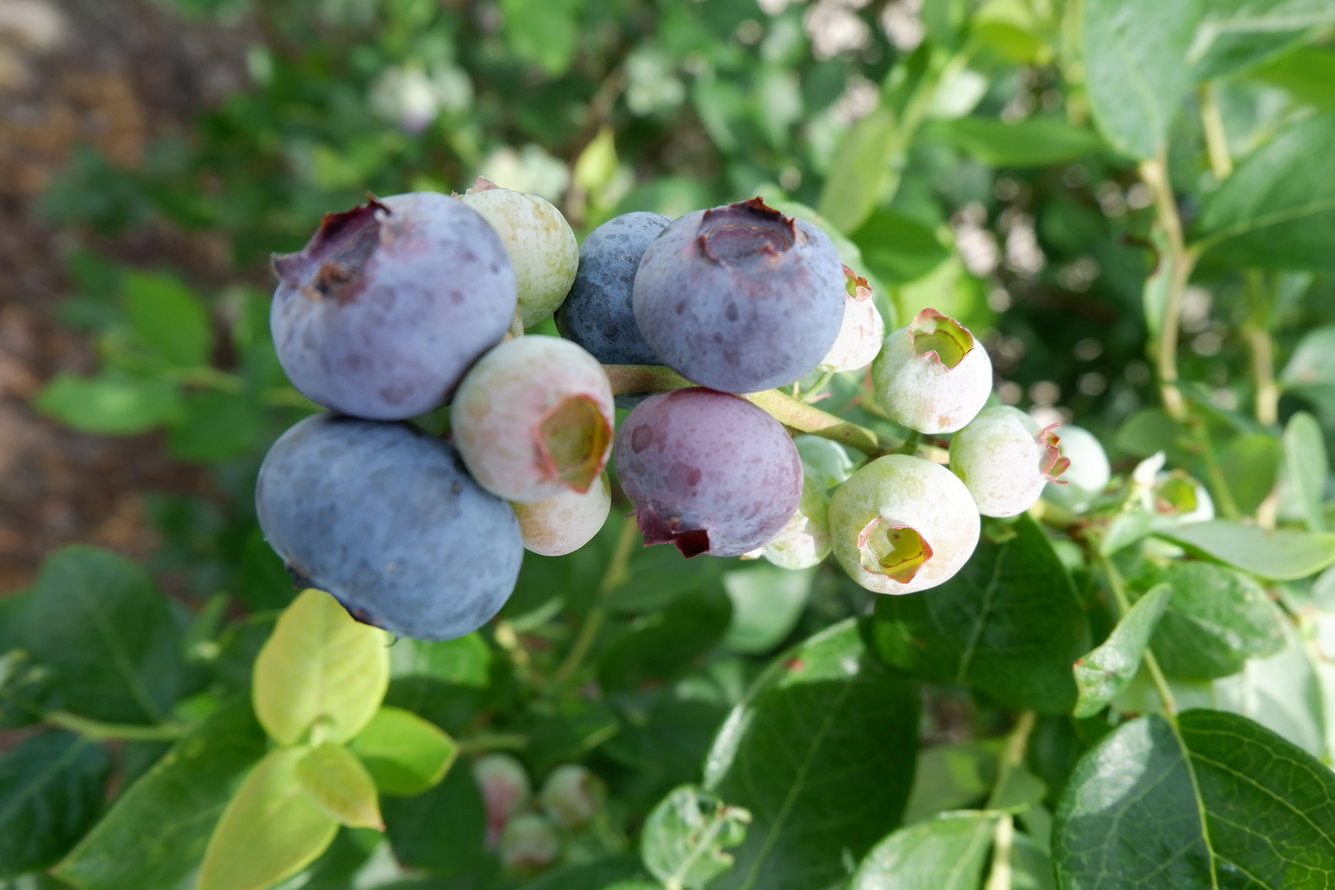Immature: (455, 339, 613, 501), (835, 459, 979, 591), (461, 182, 573, 327), (876, 312, 990, 430), (951, 409, 1063, 515), (513, 471, 610, 555), (765, 465, 832, 568), (821, 273, 883, 372), (792, 433, 856, 488)
Mature: (258, 417, 513, 638), (270, 198, 511, 414), (637, 204, 843, 388), (613, 390, 800, 555), (558, 215, 666, 365)
